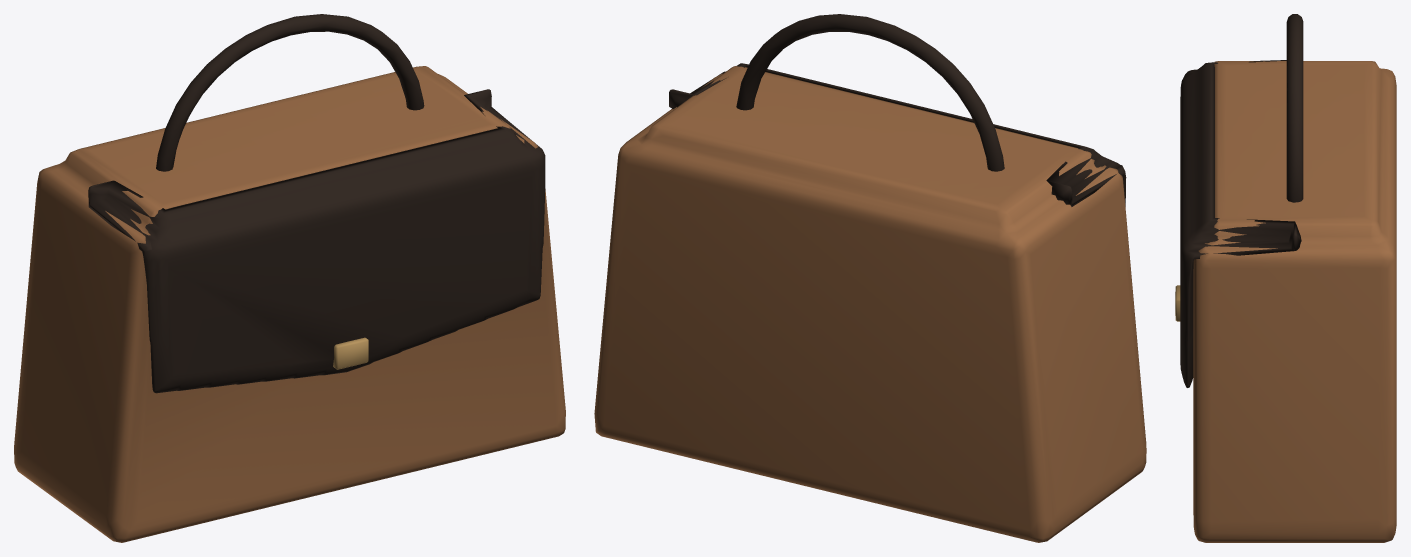
File: bag-lightweight-b5c9de50b8.glb
The picture shows the model from 3 angles, left to right: view 1: azimuth 30°, elevation 25°; view 2: azimuth 150°, elevation 25°; view 3: azimuth 270°, elevation 25°; orthographic projection. The views are drawn at different scales.
Visible parts, largest first — view 1: bag; view 2: bag; view 3: bag.
Part boxes in pixels (<box>): bag: <box>14,14,565,542</box>; bag: <box>594,14,1146,542</box>; bag: <box>1175,14,1396,542</box>.
Bounding box in the file's own units: 0.27 × 0.2469 × 0.1198.
